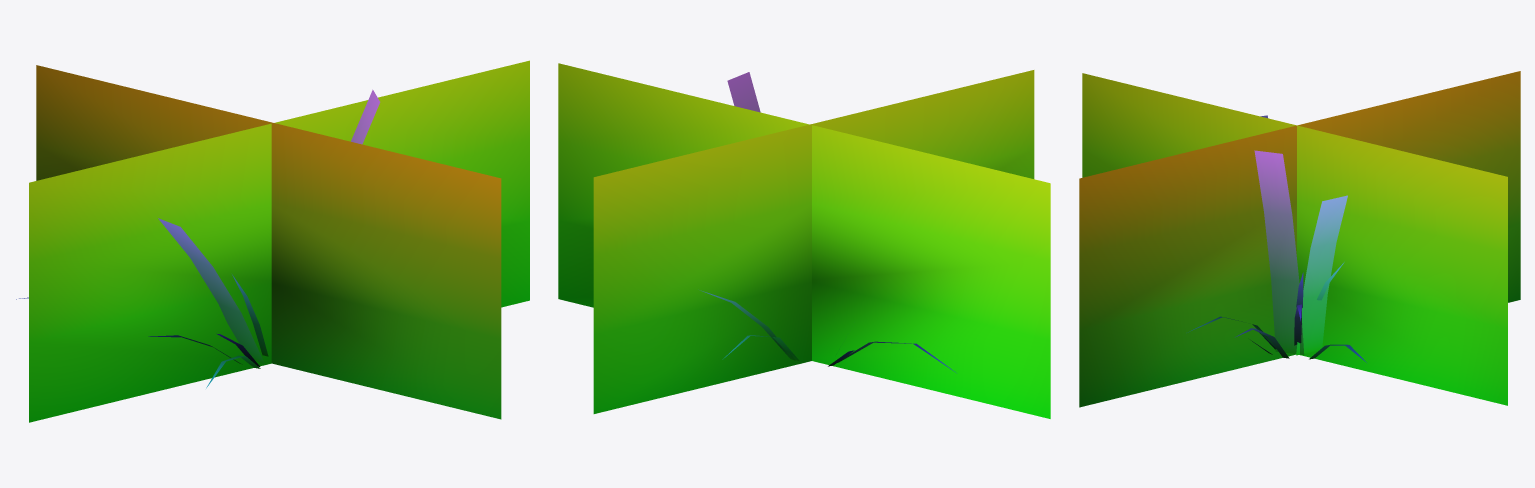
File: Grass_DikeTuft_B.fbx
3 views of the same model, side by side, from view 1: azimuth 30°, elevation 25°; view 2: azimuth 150°, elevation 25°; view 3: azimuth 270°, elevation 25° (orthographic). The views are drawn at different scales.
Parts seen in each view (by area): view 1: Grass_DikeTuft_B_LOD0; view 2: Grass_DikeTuft_B_LOD0; view 3: Grass_DikeTuft_B_LOD0.
Boxes of the visible parts, <box> form: Grass_DikeTuft_B_LOD0: <box>16,60,529,422</box>; Grass_DikeTuft_B_LOD0: <box>558,63,1050,418</box>; Grass_DikeTuft_B_LOD0: <box>1079,71,1520,407</box>.
Size of what is drawn, in the model's own units: 0.6495 by 0.3183 by 0.5222.
